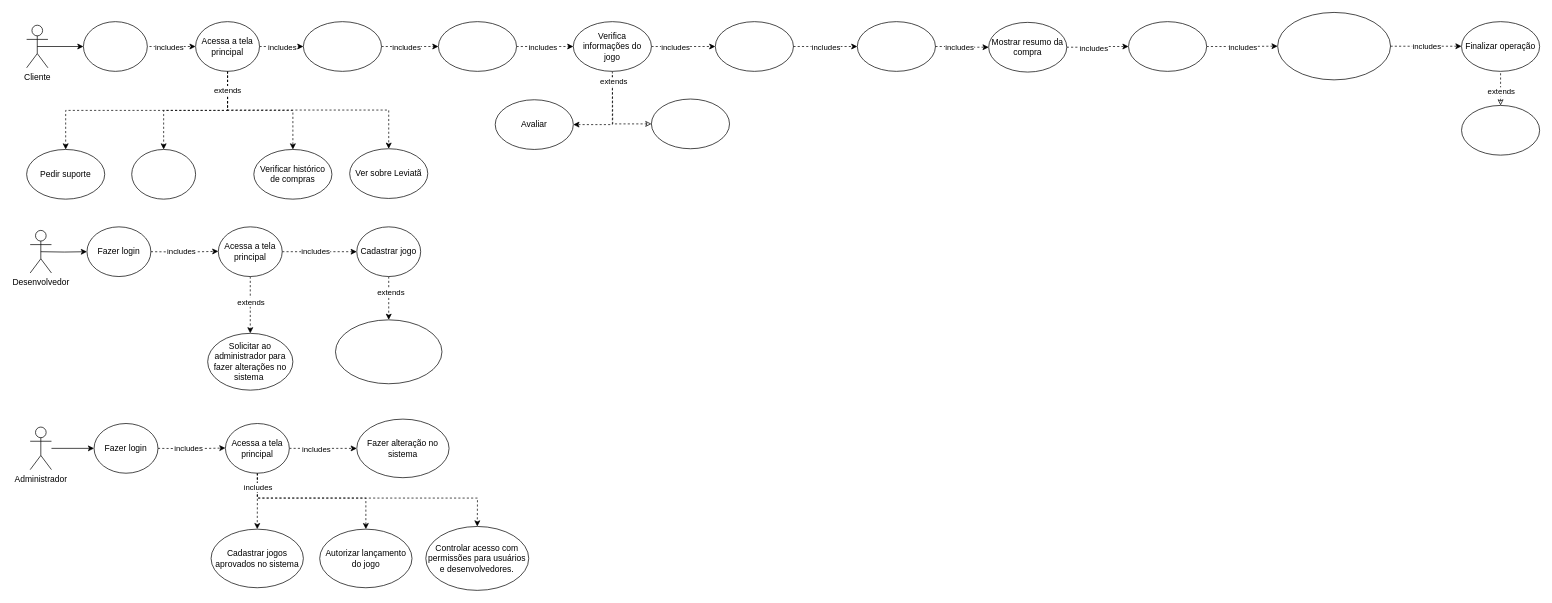
This 1552x603 diagram has some shape labels left out. Here are the shapes that lost their labels. From the top down, the centre of each, then its label:
pixel 115 46: Fazer login/cadastro
pixel 342 46: Visualiza jogos disponíveis para compra
pixel 477 46: Seleciona um jogo
pixel 754 46: Adicionar ao carrinho
pixel 896 46: Escolher método de pagamento
pixel 1167 46: Pagar
pixel 1334 46: Disponibilizar arquivo de instalação do jogo
pixel 690 123: Verificar avaliações
pixel 1500 130: Avaliar o site
pixel 163 174: Entrar para equipe de jogos
pixel 388 351: Solicitar ao administrador para autorizar o lançamento do jogo
